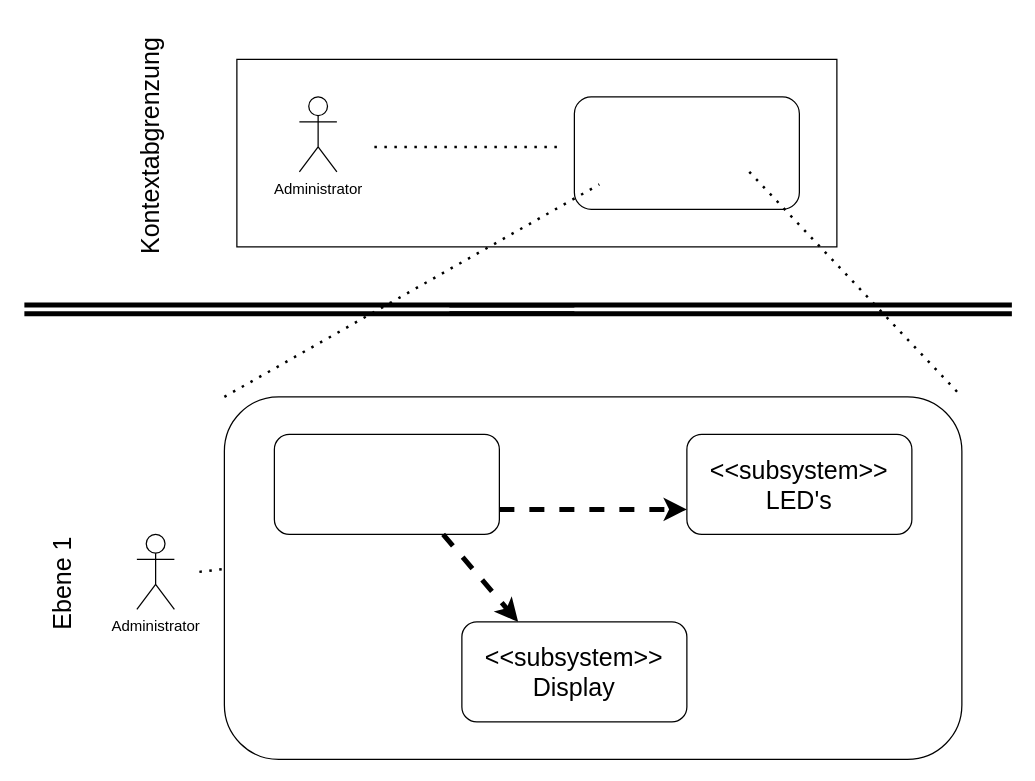
Some shapes in this 1035 by 781 pixel diagram are drawn without their labels. Here are the shapes that lost their labels. From the top down, the box of each, then its label:
(573, 96, 799, 209): System
(273, 433, 499, 534): <<subsystem>> Scanner
